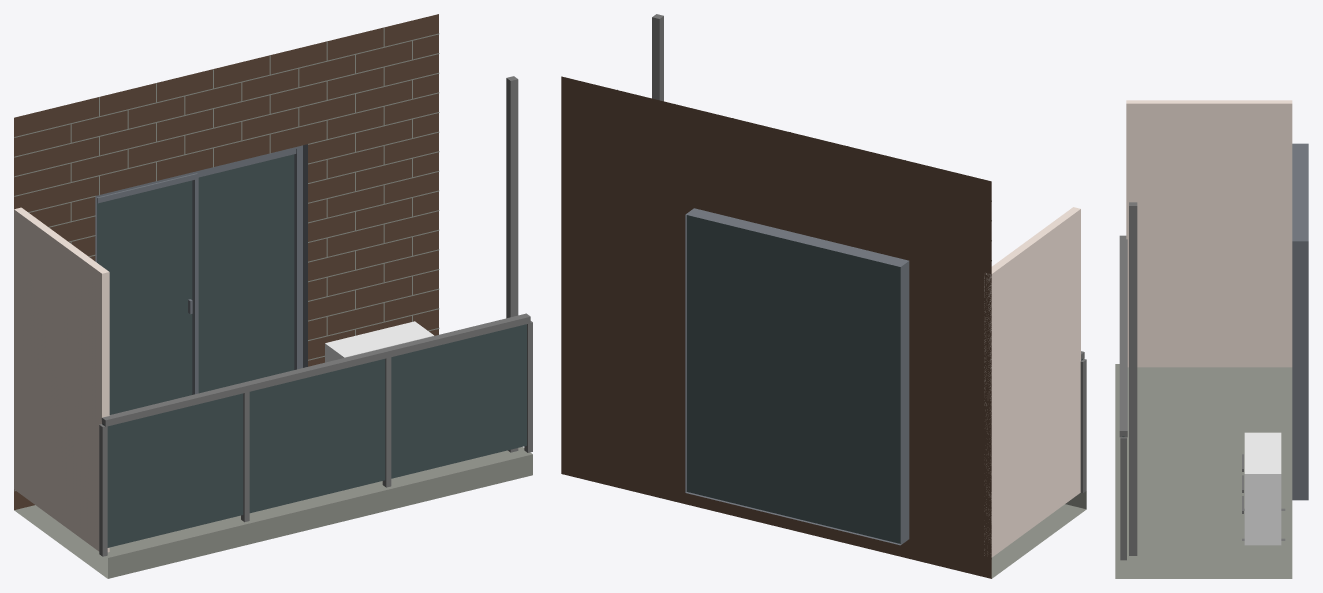
Rendered from mid-w1_close.fbx.
3 renders of one model, left to right at view 1: azimuth 30°, elevation 25°; view 2: azimuth 150°, elevation 25°; view 3: azimuth 270°, elevation 25°, orthographic. The views are drawn at different scales.
Visible parts, largest first — view 1: a2001/800/mid-w1_close; view 2: a2001/800/mid-w1_close; view 3: a2001/800/mid-w1_close.
Part boxes in pixels (<box>): a2001/800/mid-w1_close: <box>14,14,532,578</box>; a2001/800/mid-w1_close: <box>561,14,1086,578</box>; a2001/800/mid-w1_close: <box>1115,100,1308,578</box>.
Bounding box in the file's own units: 3.44 × 3 × 1.42.
